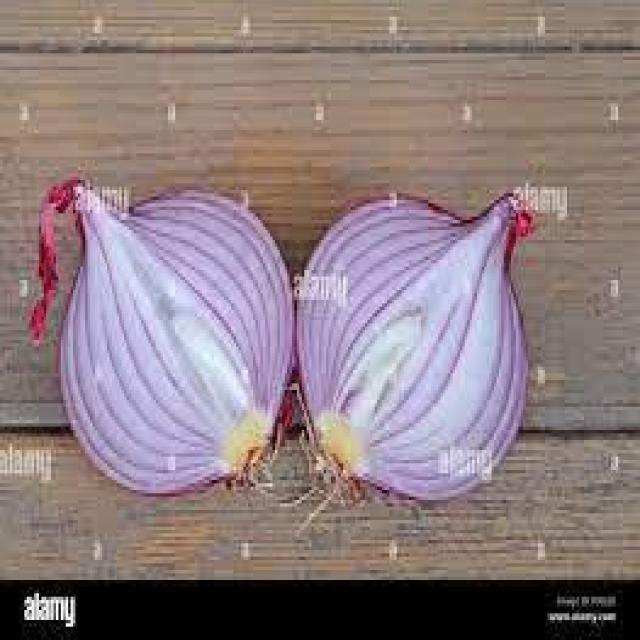Onion: (34, 165, 292, 468), (298, 176, 539, 496)
